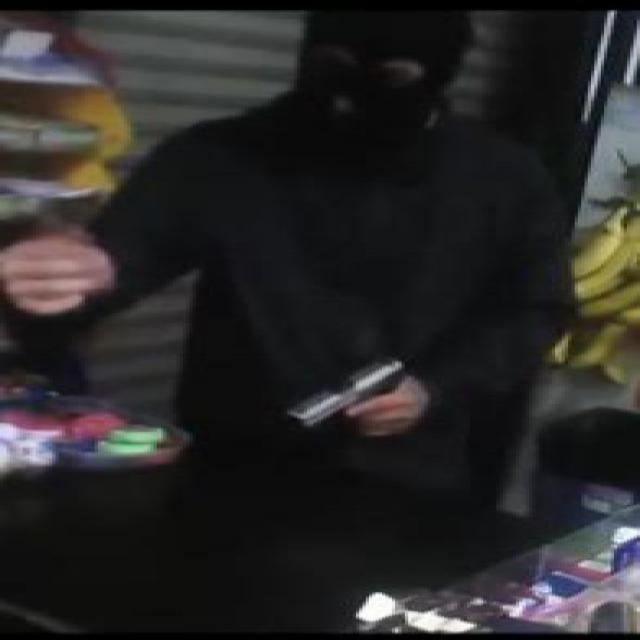weapon: (283, 351, 407, 431)
